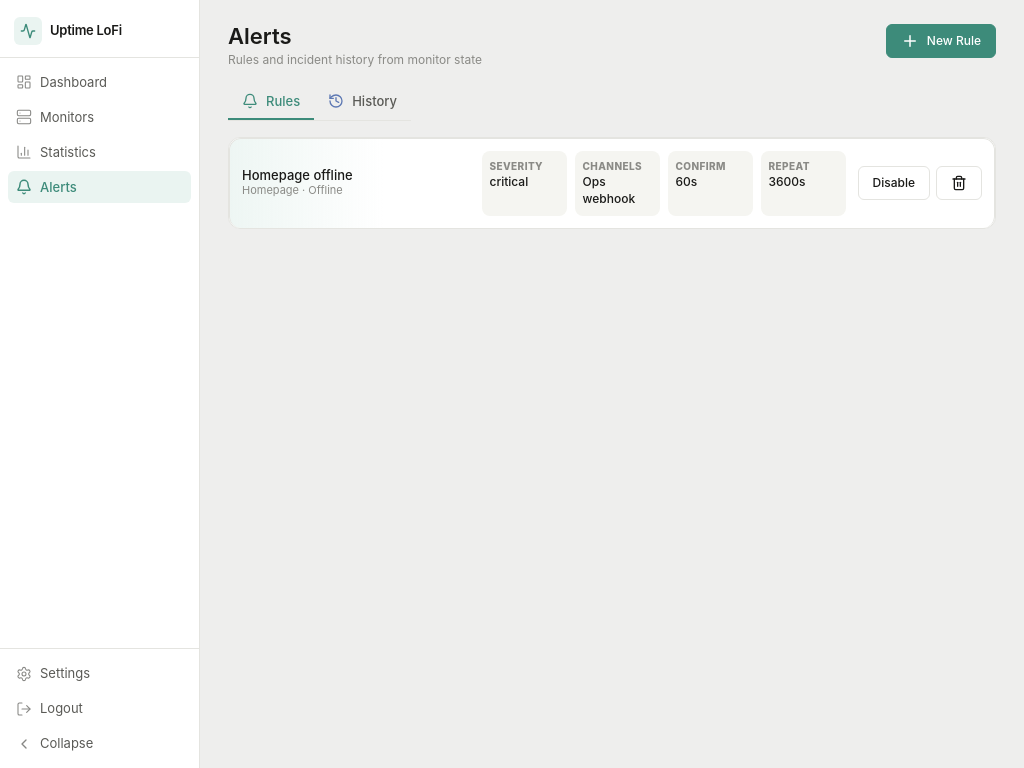
Test: Alerts page › keeps advanced options collapsed by default
Click the button "Alerts" at [100, 187], box [8,170,191,203]
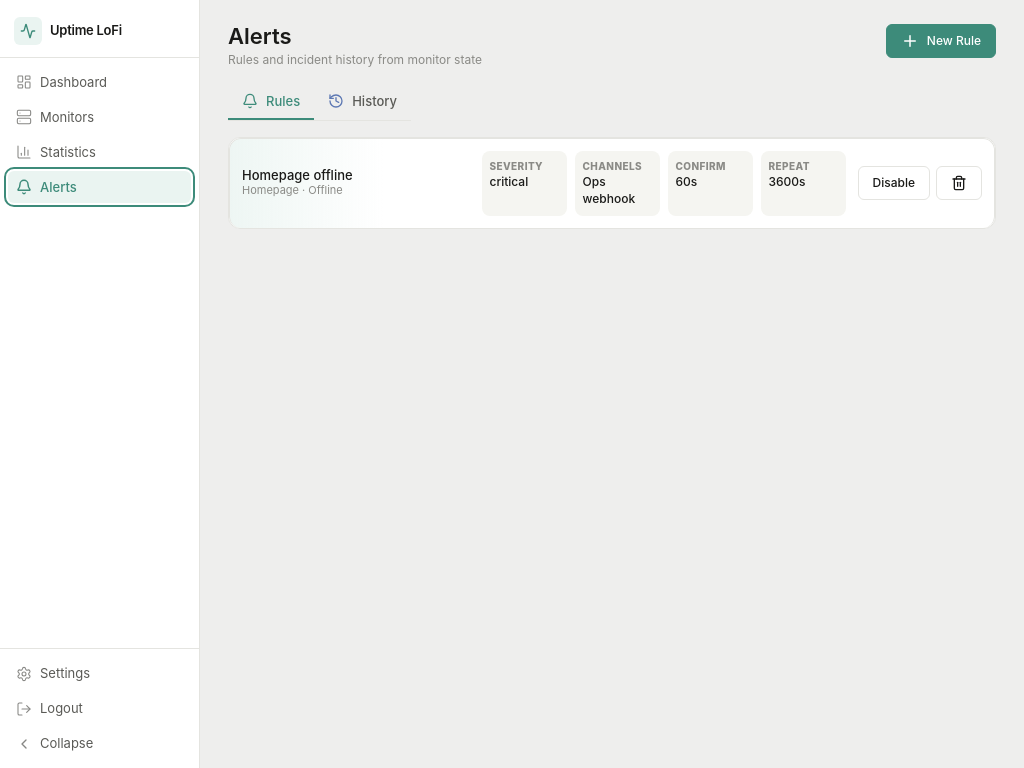
Click the button "New Rule" at [941, 41], box [886,24,996,58]
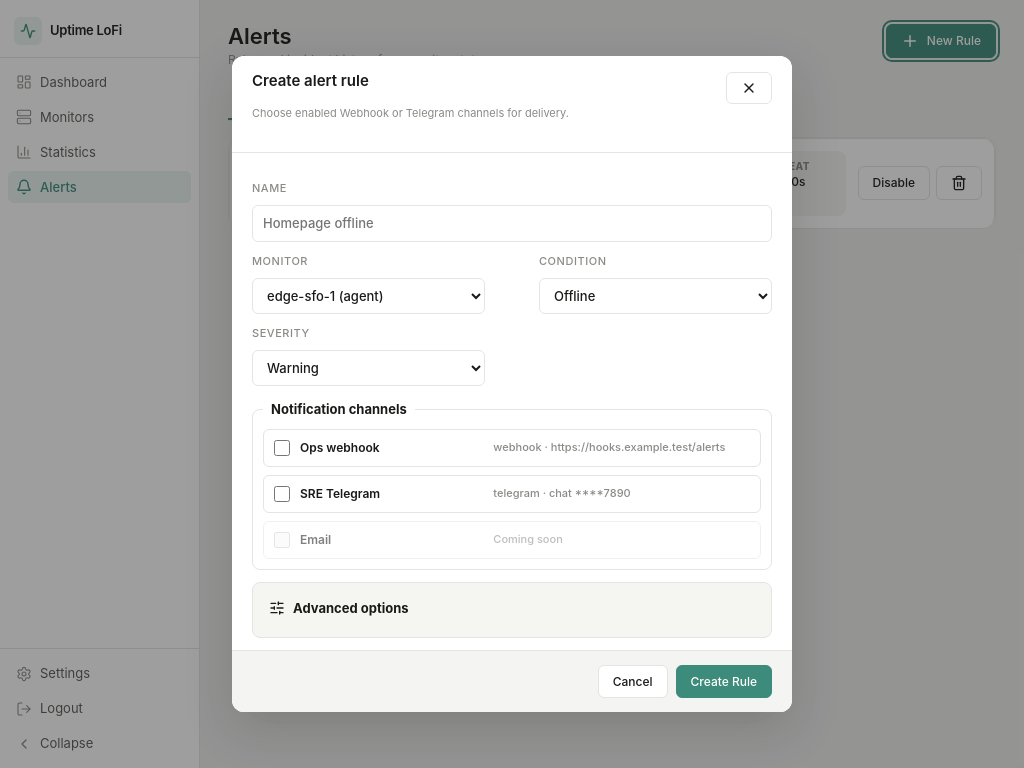
Check: the dialog "Create alert rule" is shown, box [232,56,792,712]
